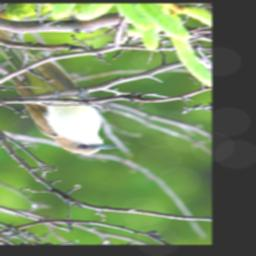Cuckoo: (0, 24, 112, 156)
